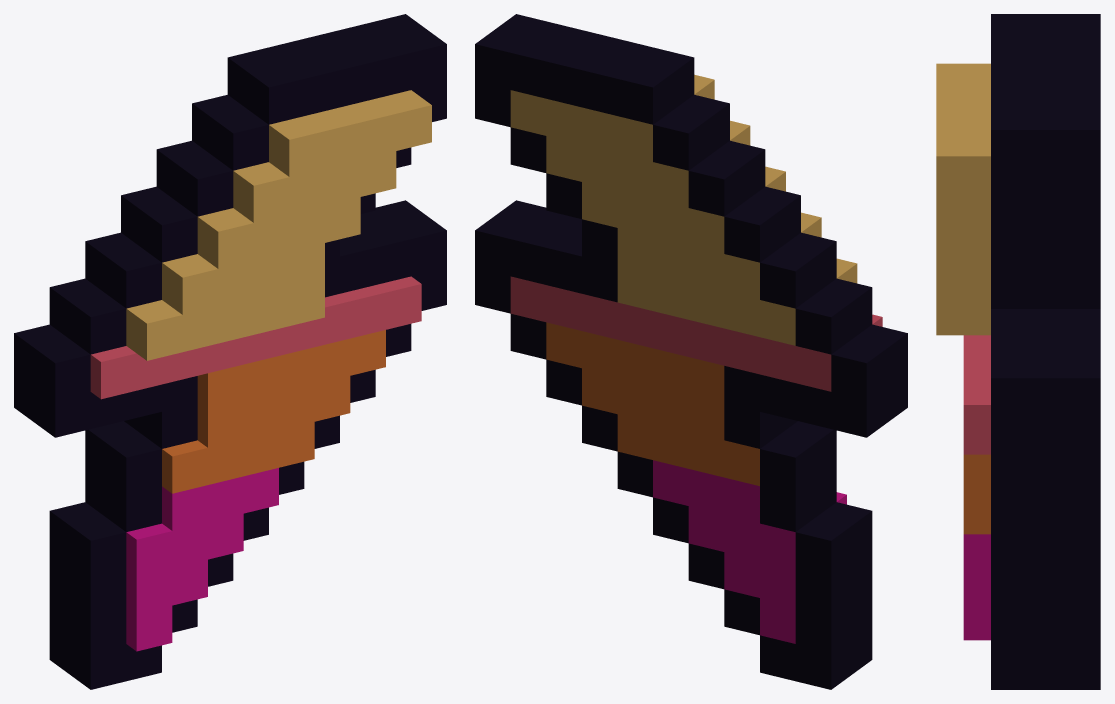
The model's file is voxel-bolt.glb.
3 renders of one model, left to right at view 1: azimuth 30°, elevation 25°; view 2: azimuth 150°, elevation 25°; view 3: azimuth 270°, elevation 25°, orthographic. The views are drawn at different scales.
Visible parts, largest first — view 1: albretsen-mark-voxel; view 2: albretsen-mark-voxel; view 3: albretsen-mark-voxel.
Part boxes in pixels (bbox=[...]): albretsen-mark-voxel: bbox=[14, 14, 446, 689]; albretsen-mark-voxel: bbox=[475, 14, 907, 689]; albretsen-mark-voxel: bbox=[936, 14, 1100, 689].
Size of the model in its own units: 1.1 by 1.5 by 0.3.
